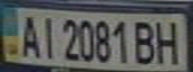0: (75, 16, 93, 63)
1: (109, 17, 130, 64)
2: (57, 15, 81, 62)
8: (93, 17, 115, 63)
A: (15, 10, 42, 60)
B: (130, 17, 160, 65)
H: (151, 17, 187, 65)
I: (36, 12, 57, 60)
